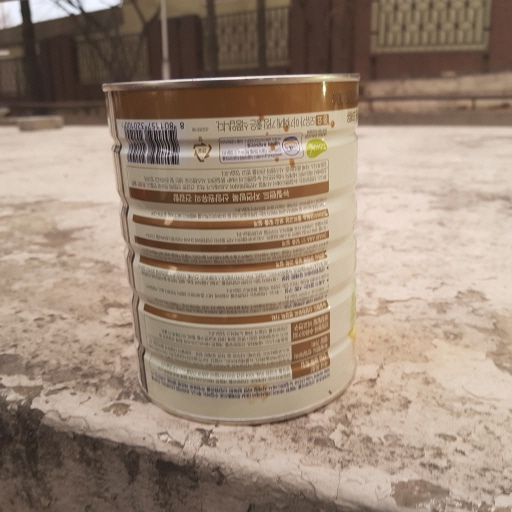Metal_1: (99, 71, 371, 422)
